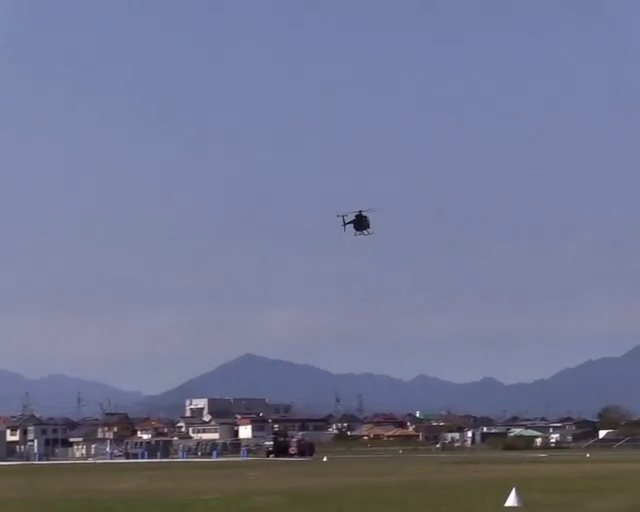HELICOPTER: (335, 207, 377, 236)
